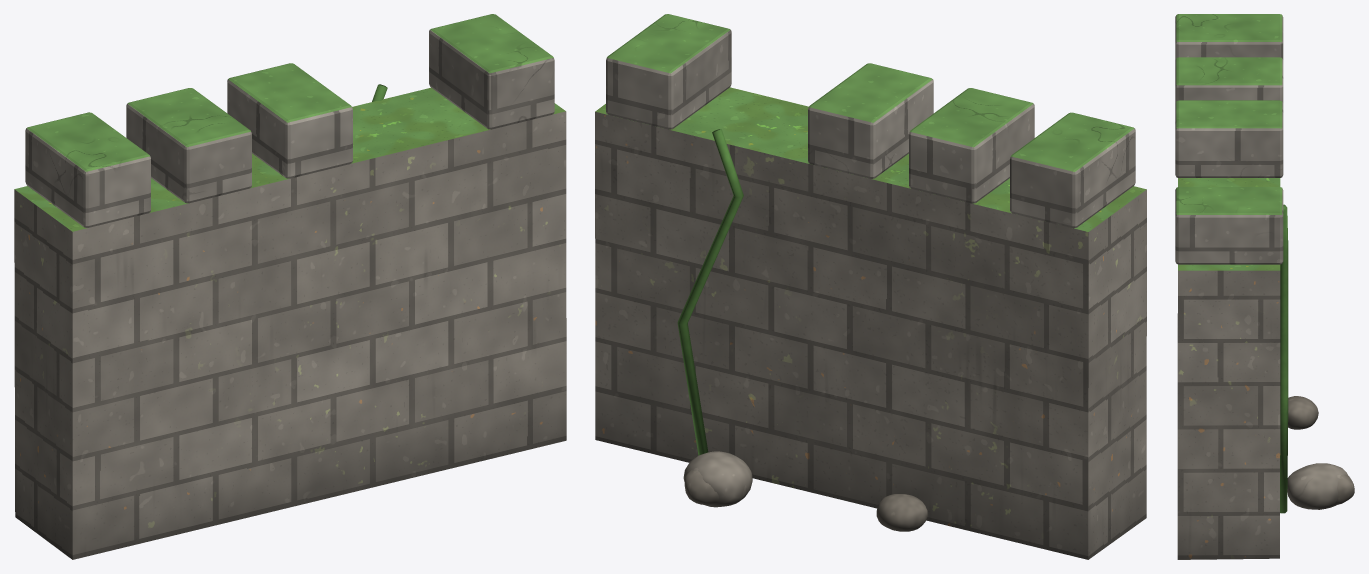
Rendered from fort_wall.glb.
3 renders of one model, left to right at view 1: azimuth 30°, elevation 25°; view 2: azimuth 150°, elevation 25°; view 3: azimuth 270°, elevation 25°, orthographic. The views are drawn at different scales.
Parts seen in each view (by area): view 1: FortWall; view 2: FortWall; view 3: FortWall.
Part boxes in pixels (bbox=[...]): FortWall: bbox=[14, 14, 566, 559]; FortWall: bbox=[595, 14, 1146, 559]; FortWall: bbox=[1175, 14, 1354, 559].
Size of the model in its own units: 4.41 by 3.39 by 1.58.
Materials: 1 (1 with a texture image).
